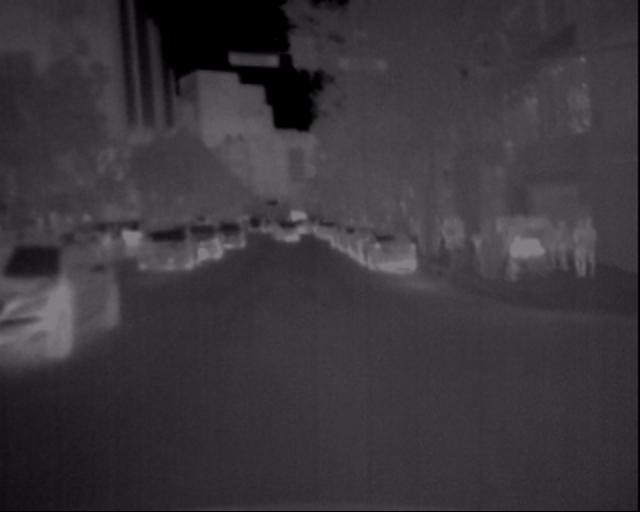person: (575, 207, 605, 284), (572, 214, 601, 282), (553, 207, 578, 276), (538, 211, 563, 269), (441, 208, 462, 251)
